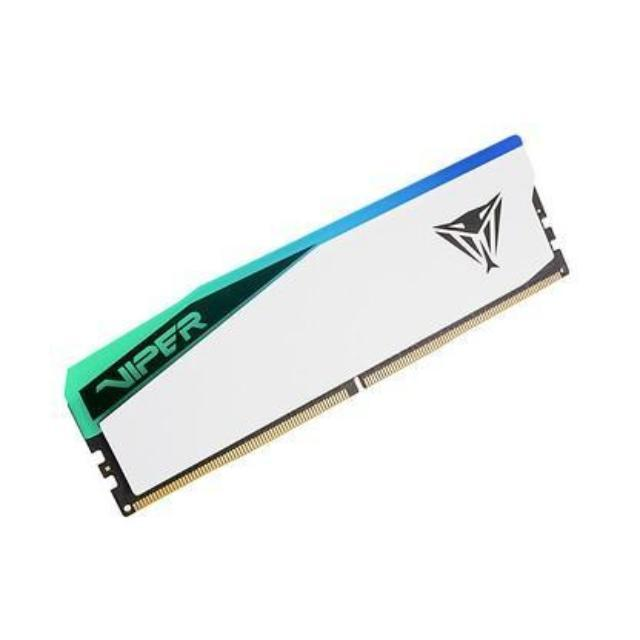RAM: (53, 128, 576, 524)
